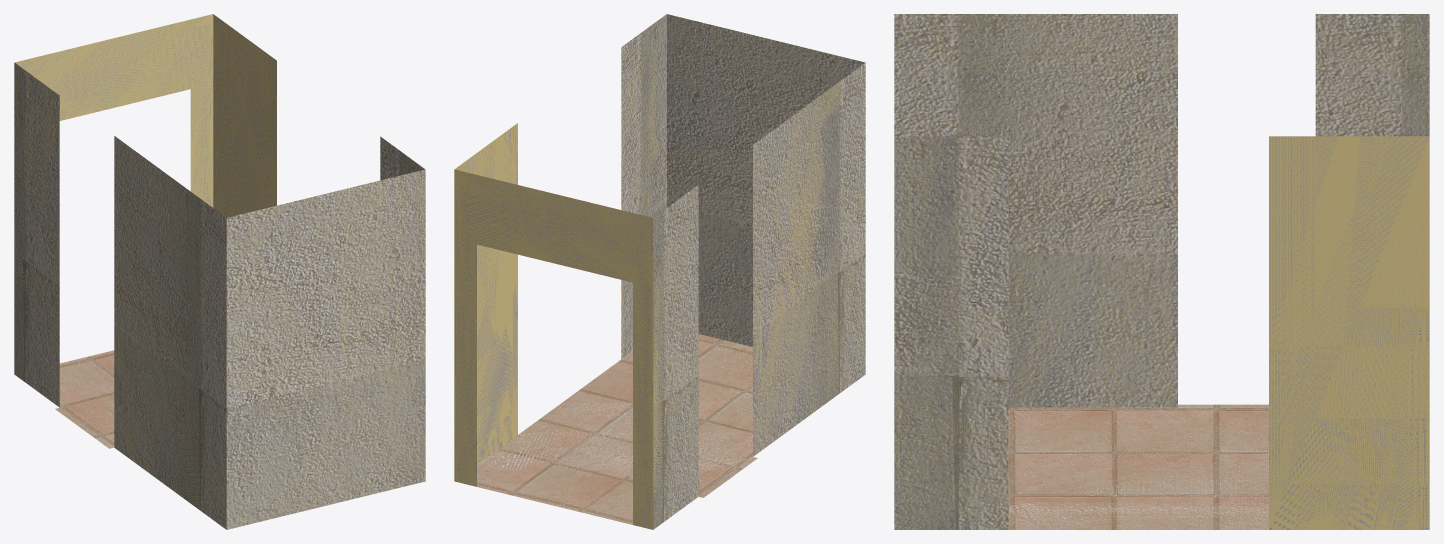
Rendered from COM034.obj.
3 views of the same model, side by side, from view 1: azimuth 30°, elevation 25°; view 2: azimuth 150°, elevation 25°; view 3: azimuth 270°, elevation 25° (orthographic). The views are drawn at different scales.
Parts seen in each view (by area): view 1: Mesh1 CUA034 Model; view 2: Mesh1 CUA034 Model; view 3: Mesh1 CUA034 Model.
Boxes of the visible parts, left/top/right/bottom form: Mesh1 CUA034 Model: left=14, top=14, right=425, bottom=529; Mesh1 CUA034 Model: left=454, top=14, right=865, bottom=529; Mesh1 CUA034 Model: left=894, top=14, right=1429, bottom=529.
Bounding box in the file's own units: 2.05 × 3 × 3.7.
Materials: 4 (2 with a texture image).
